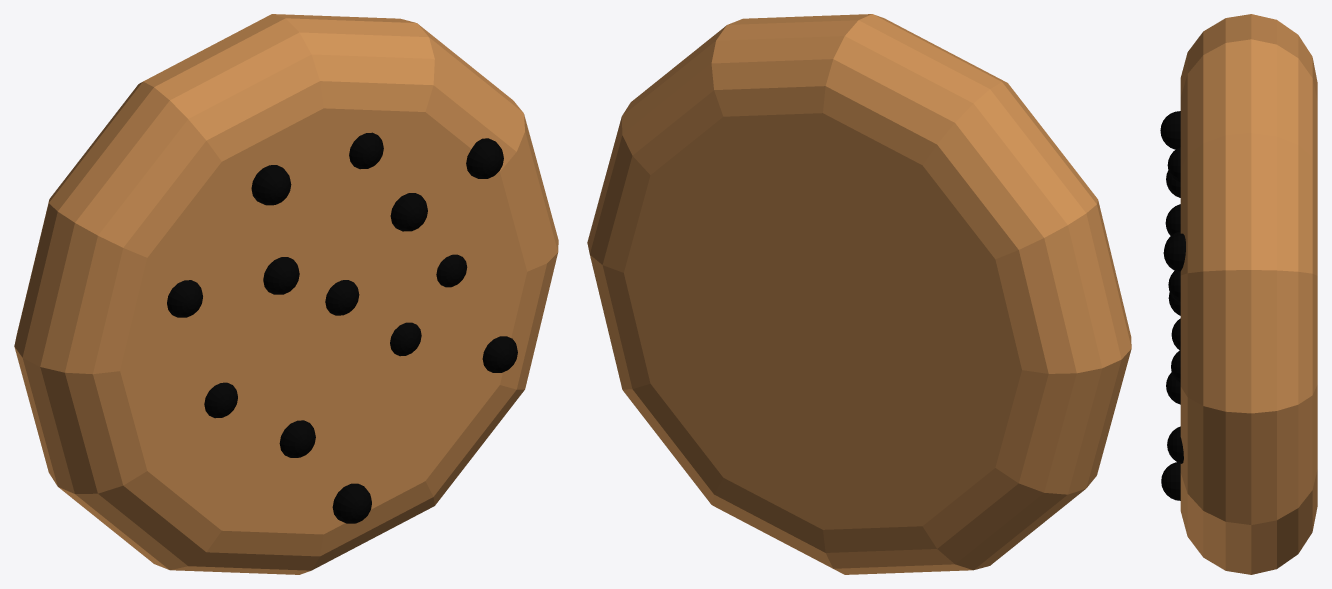
3 renders of one model, left to right at view 1: azimuth 30°, elevation 25°; view 2: azimuth 150°, elevation 25°; view 3: azimuth 270°, elevation 25°, orthographic. The views are drawn at different scales.
Visible parts, largest first — view 1: cookie; view 2: cookie; view 3: cookie.
Boxes of the visible parts, x1,y1,x2,y2 form: cookie: (14,14,558,574); cookie: (587,14,1131,574); cookie: (1160,14,1317,574).
Size of the model in its own units: 166 by 166 by 46.41.
